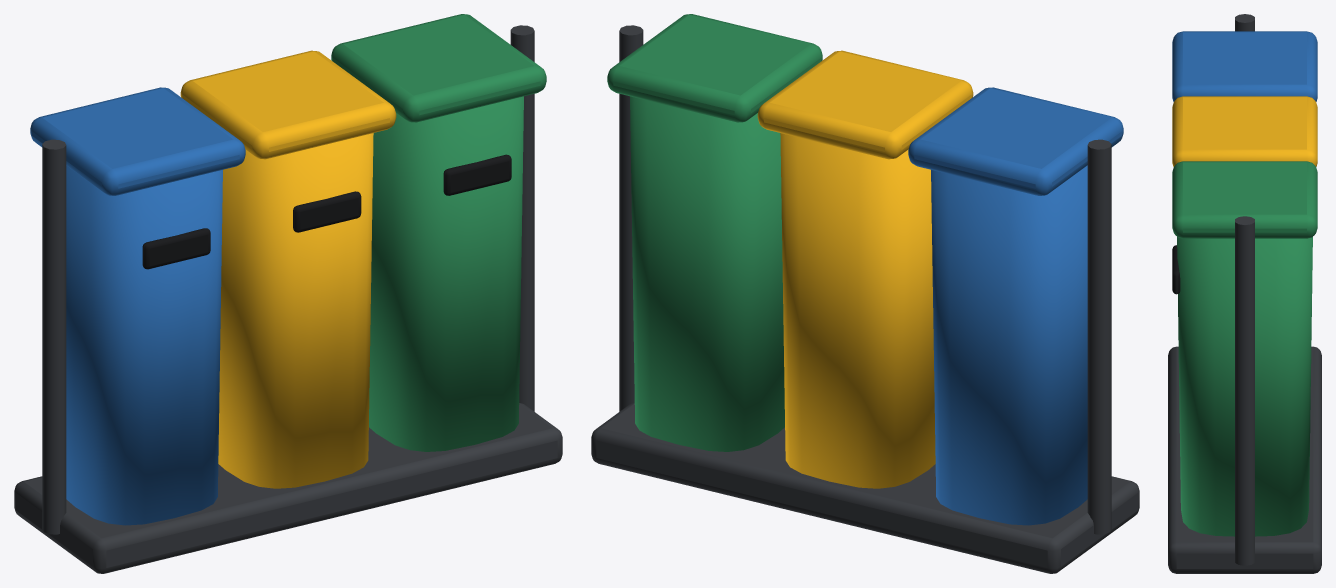
File: street_bins.fbx
3 views of the same model, side by side, from view 1: azimuth 30°, elevation 25°; view 2: azimuth 150°, elevation 25°; view 3: azimuth 270°, elevation 25° (orthographic). The views are drawn at different scales.
Parts seen in each view (by area): view 1: street_bins; view 2: street_bins; view 3: street_bins.
Part boxes in pixels (x1,y1,x2,y2): street_bins: (14,14,562,573); street_bins: (591,14,1139,573); street_bins: (1168,14,1321,573).
Size of the model in its own units: 1.17 by 0.92 by 0.36.
